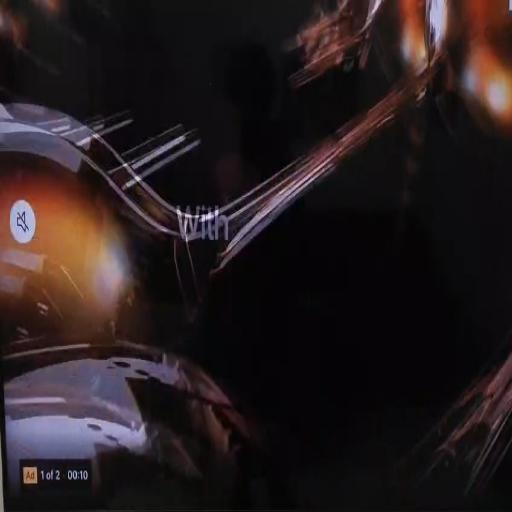ad label: (22, 463, 39, 489)
